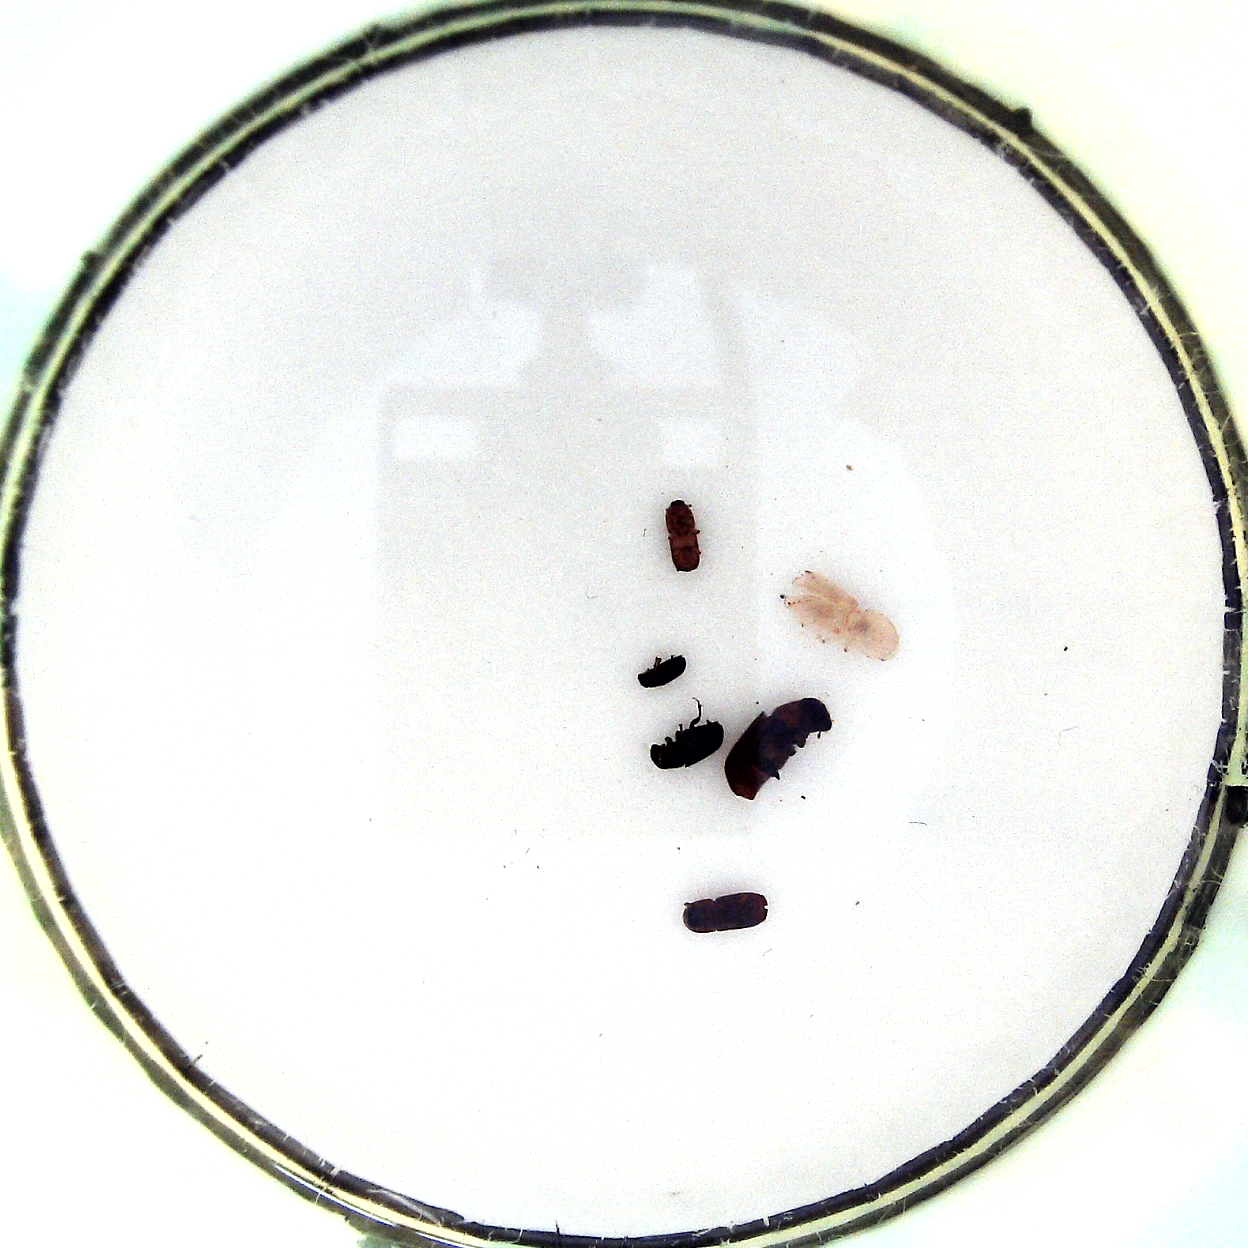Boerner: (787, 568, 901, 667)
Leconte: (720, 693, 837, 805)
Linnaeus: (680, 891, 774, 937)
acuminatus: (664, 494, 707, 578)
armandi: (646, 696, 723, 774)
coleoptera: (629, 653, 689, 697)
